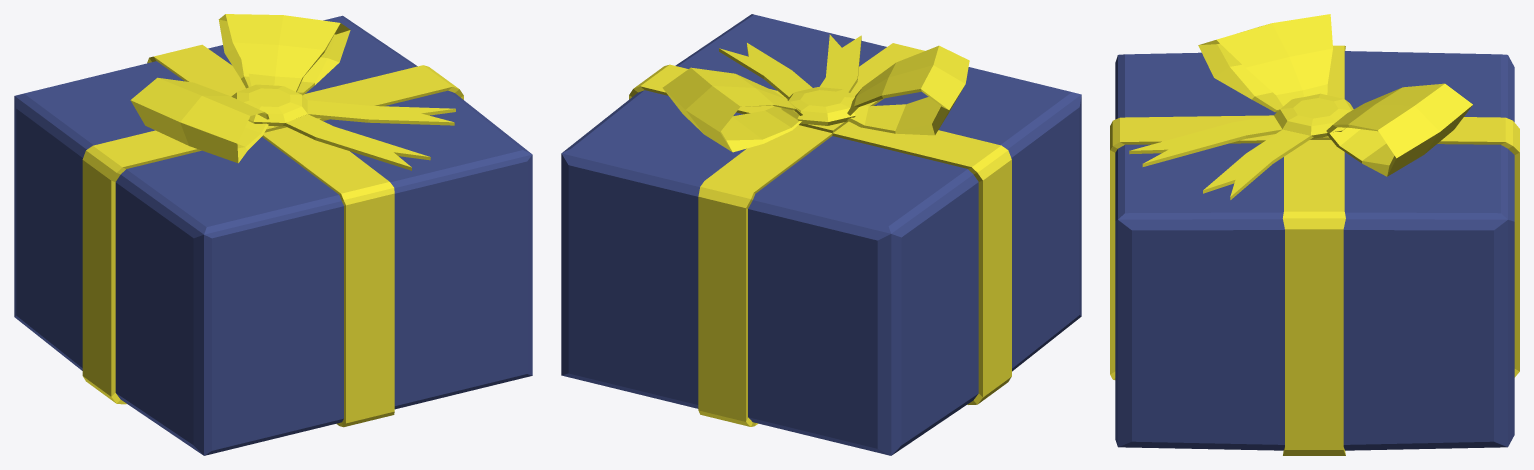
The model's file is present_blue_yellow.fbx.
3 views of the same model, side by side, from view 1: azimuth 30°, elevation 25°; view 2: azimuth 150°, elevation 25°; view 3: azimuth 270°, elevation 25° (orthographic). The views are drawn at different scales.
Visible parts, largest first — view 1: present_blue/yellow; view 2: present_blue/yellow; view 3: present_blue/yellow.
Boxes of the visible parts, left/top/right/bottom form: present_blue/yellow: left=14, top=14, right=532, bottom=455; present_blue/yellow: left=561, top=14, right=1081, bottom=455; present_blue/yellow: left=1110, top=14, right=1519, bottom=455.
Bounding box in the file's own units: 70.9 × 57.67 × 69.37.
